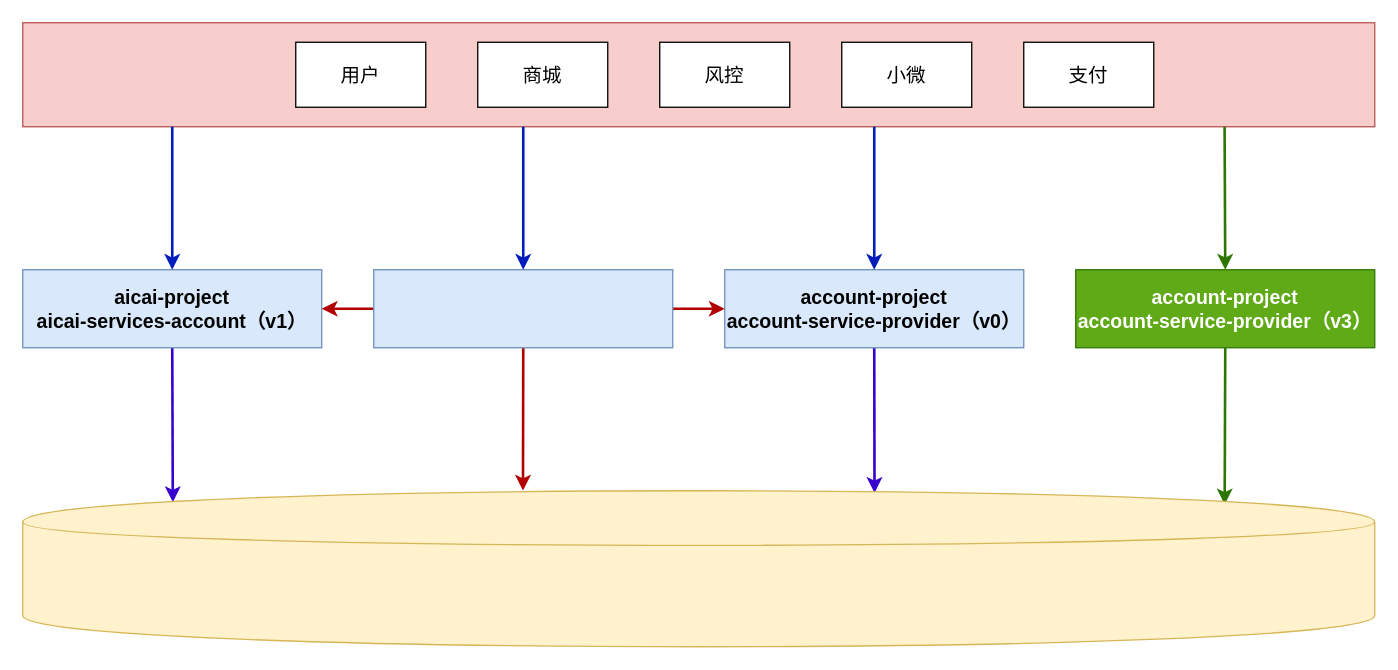
The diagram is 1398 pixels wide and 670 high, and some of its shapes have lost their labels. Here are the shapes that lost their labels. From the top down, the box of each, then its label:
(21, 21, 1375, 127): 其他系统服务
(372, 268, 673, 348): fintech-project account-service-provider （ v2 ）
(21, 489, 1375, 647): DB
